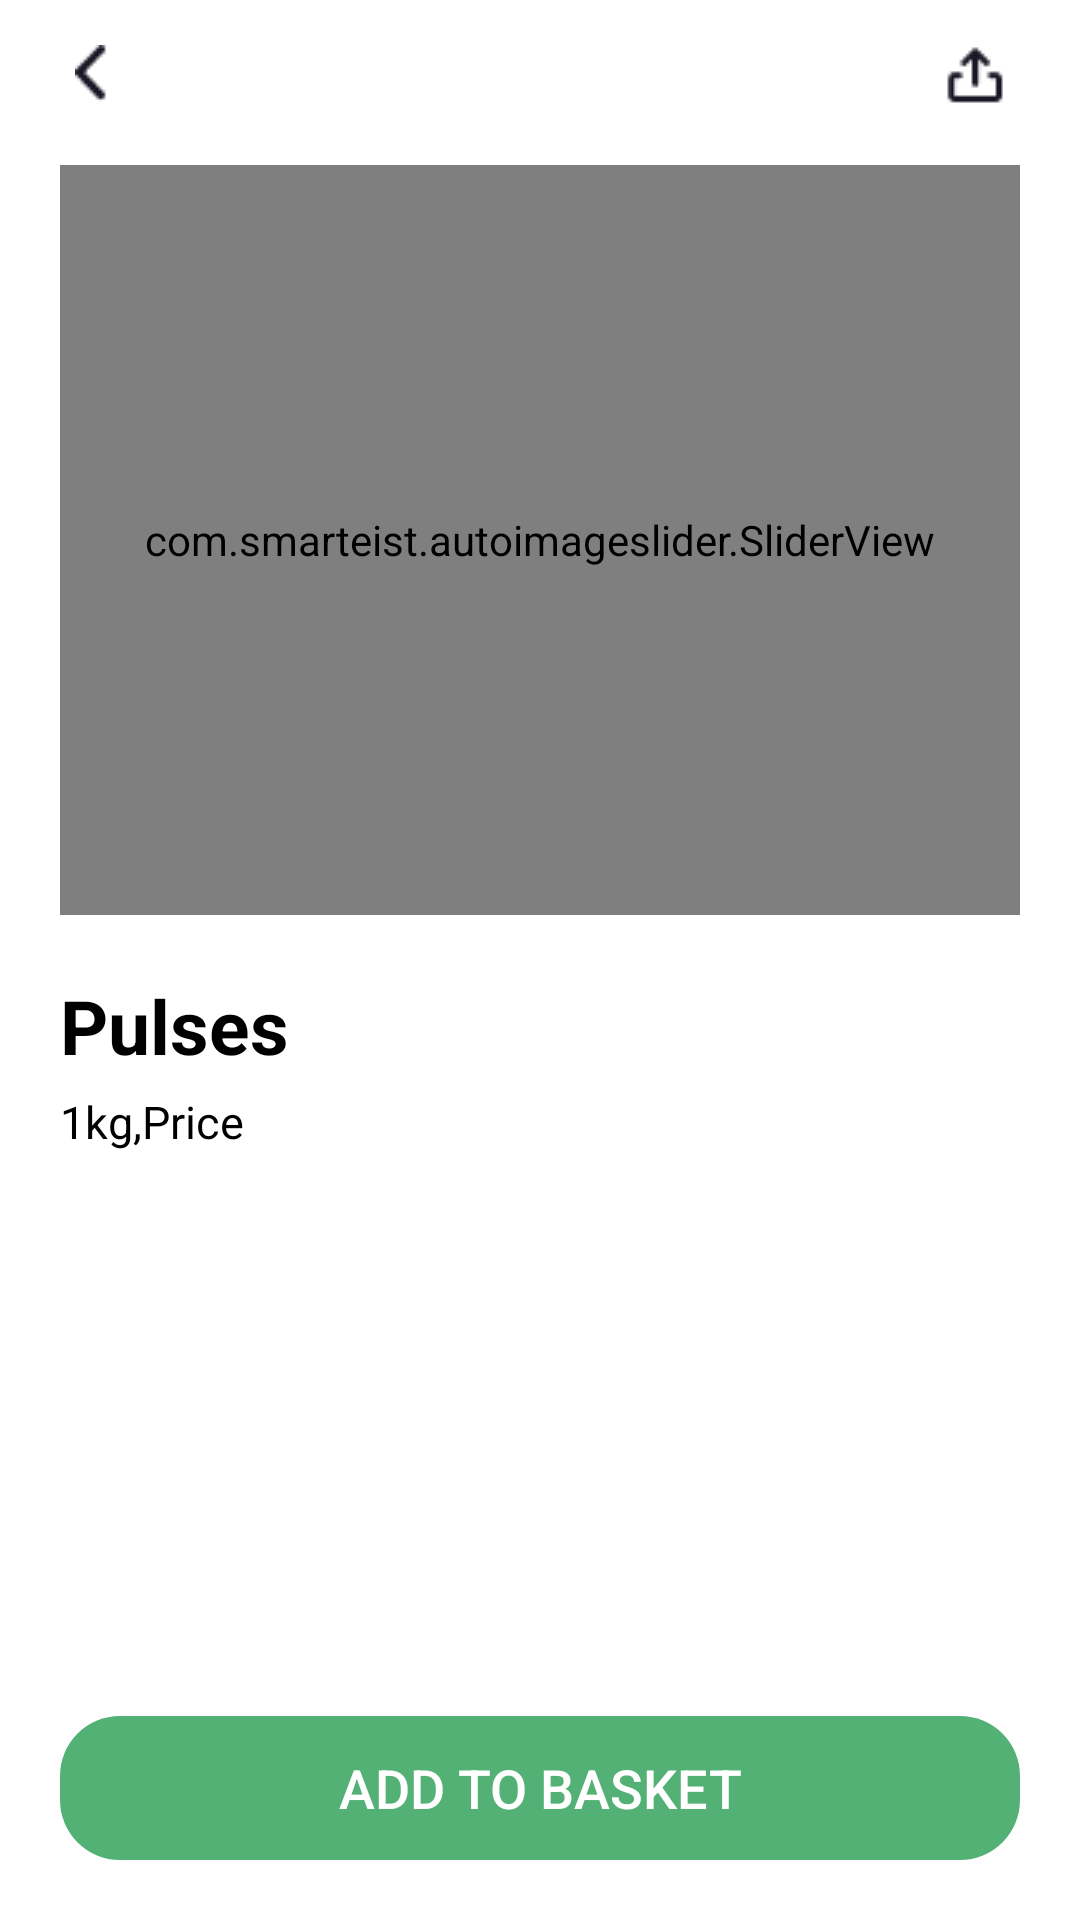

Icon click points for this 1080*1920 phone screenshot, format [x,y]:
backicon: [90,72]
uploadicon: [975,75]
